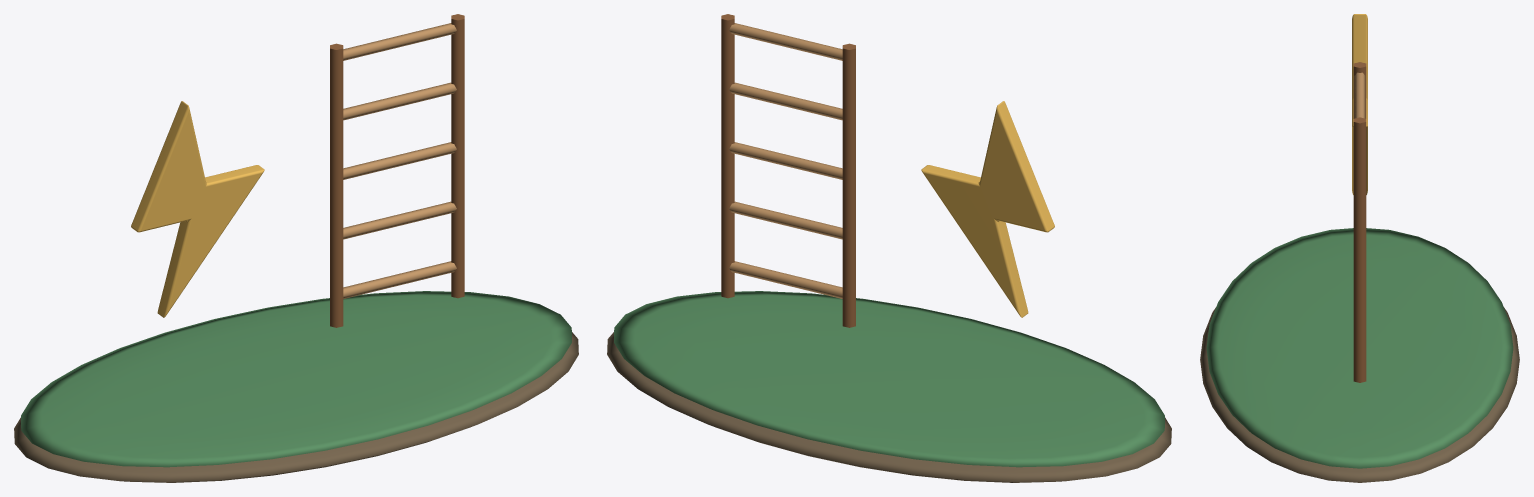
File: electric-ladder.glb
3 renders of one model, left to right at view 1: azimuth 30°, elevation 25°; view 2: azimuth 150°, elevation 25°; view 3: azimuth 270°, elevation 25°, orthographic. The views are drawn at different scales.
Visible parts, largest first — view 1: electric-ladder_surface_01, electric-ladder_surface_02, electric-ladder_surface_00, electric-ladder_surface_03, electric-ladder_surface_04; view 2: electric-ladder_surface_01, electric-ladder_surface_02, electric-ladder_surface_00, electric-ladder_surface_03, electric-ladder_surface_04; view 3: electric-ladder_surface_01, electric-ladder_surface_00, electric-ladder_surface_03, electric-ladder_surface_02, electric-ladder_surface_04.
Part boxes in pixels (left/top/right/bottom): electric-ladder_surface_01: left=21, top=291, right=571, bottom=467; electric-ladder_surface_02: left=131, top=101, right=264, bottom=317; electric-ladder_surface_00: left=14, top=332, right=578, bottom=482; electric-ladder_surface_03: left=330, top=14, right=464, bottom=327; electric-ladder_surface_04: left=343, top=23, right=456, bottom=298; electric-ladder_surface_01: left=614, top=291, right=1164, bottom=467; electric-ladder_surface_02: left=921, top=101, right=1054, bottom=317; electric-ladder_surface_00: left=607, top=332, right=1171, bottom=482; electric-ladder_surface_03: left=721, top=14, right=855, bottom=327; electric-ladder_surface_04: left=729, top=23, right=842, bottom=298; electric-ladder_surface_01: left=1206, top=228, right=1513, bottom=468; electric-ladder_surface_00: left=1200, top=307, right=1519, bottom=482; electric-ladder_surface_03: left=1353, top=62, right=1366, bottom=382; electric-ladder_surface_02: left=1352, top=14, right=1367, bottom=194; electric-ladder_surface_04: left=1354, top=72, right=1365, bottom=118.
Size of the model in its own units: 4.56 by 2.83 by 2.5.
